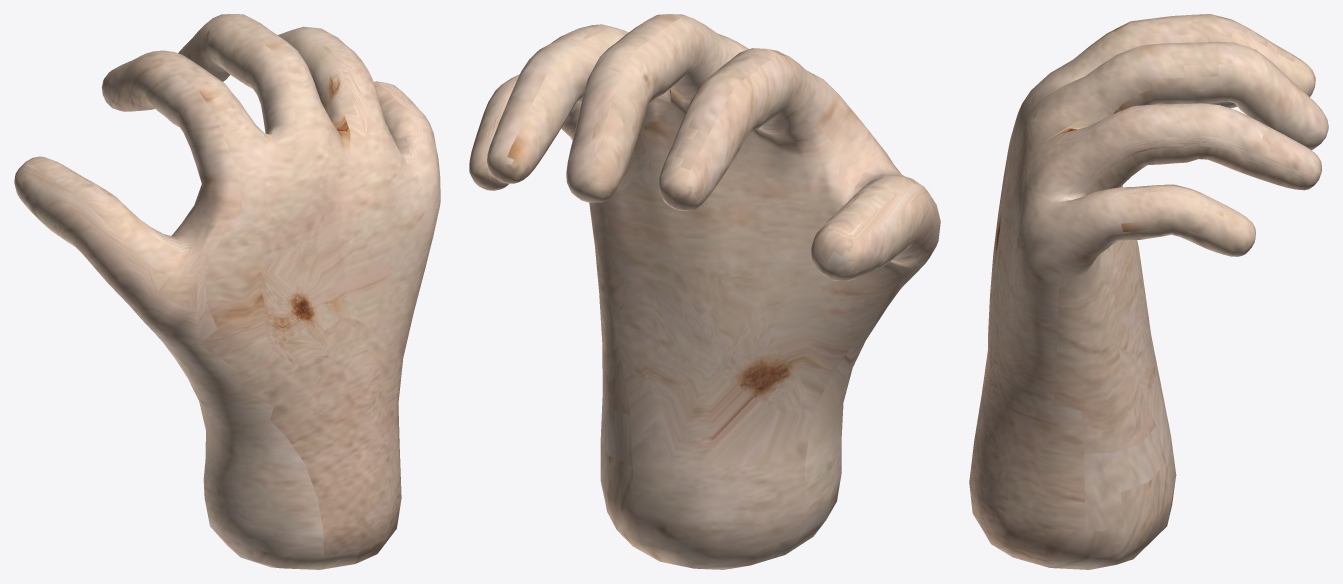
The model's file is hand9.obj.
The picture shows the model from 3 angles, left to right: view 1: azimuth 30°, elevation 25°; view 2: azimuth 150°, elevation 25°; view 3: azimuth 270°, elevation 25°; orthographic projection. The views are drawn at different scales.
Visible parts, largest first — view 1: Cube.001; view 2: Cube.001; view 3: Cube.001.
Part boxes in pixels (<box>): Cube.001: <box>14,14,440,569</box>; Cube.001: <box>469,14,940,569</box>; Cube.001: <box>969,14,1328,569</box>.
Size of the model in its own units: 3.66 by 4.78 by 3.06.
